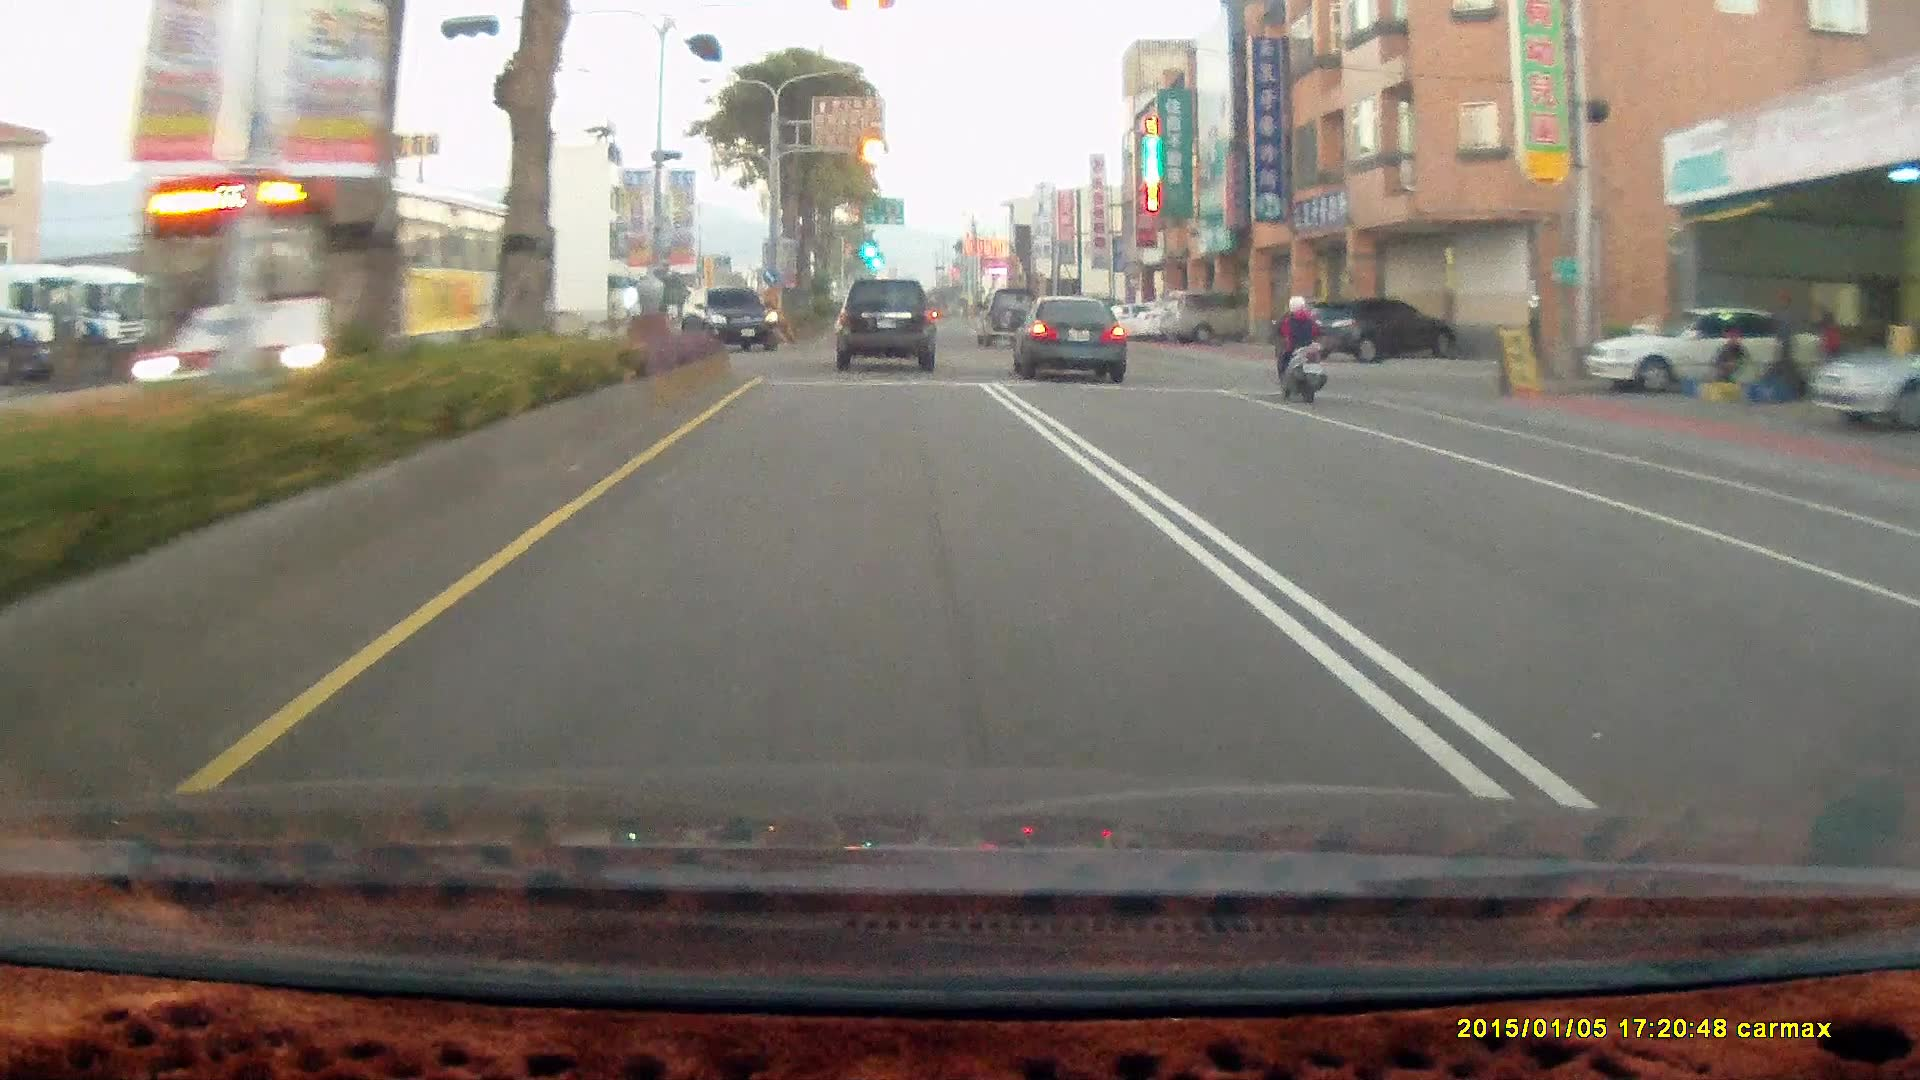pedestrian: (1774, 292, 1804, 403), (1818, 306, 1850, 404), (1716, 330, 1747, 399)
rider: (1257, 283, 1338, 413), (1268, 295, 1326, 403)
vehicle: (130, 164, 553, 406), (129, 163, 552, 405), (1583, 305, 1837, 391), (1581, 305, 1825, 394), (1808, 321, 1920, 423), (1012, 296, 1132, 389), (1294, 299, 1454, 365), (1295, 296, 1455, 361), (1006, 295, 1126, 382), (836, 281, 941, 375), (834, 278, 934, 372), (684, 286, 779, 359), (684, 286, 779, 351), (1160, 291, 1269, 345), (1158, 291, 1253, 349), (974, 286, 1040, 347)
